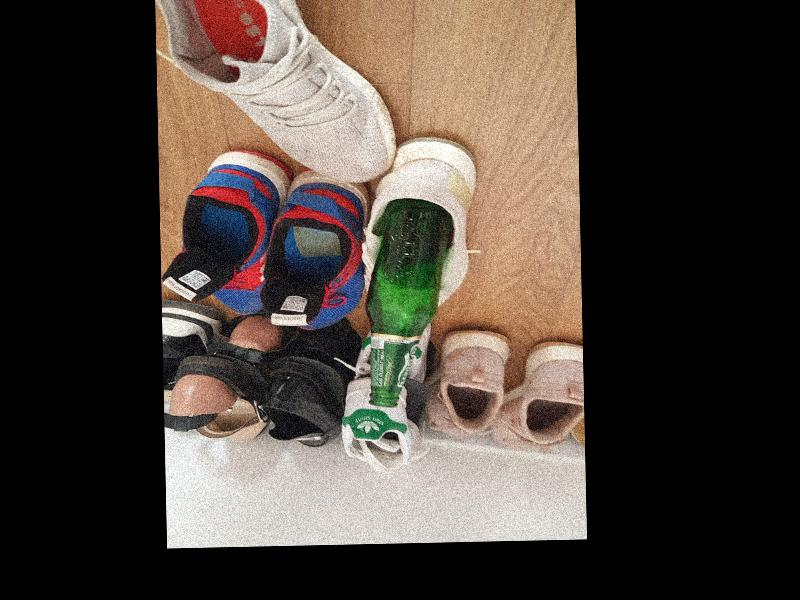Beer: (362, 198, 454, 405)
